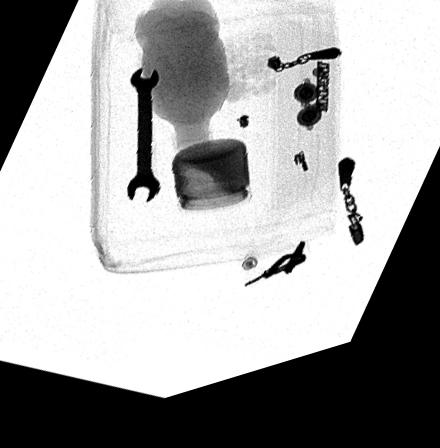Wrench: (127, 74, 161, 212)
